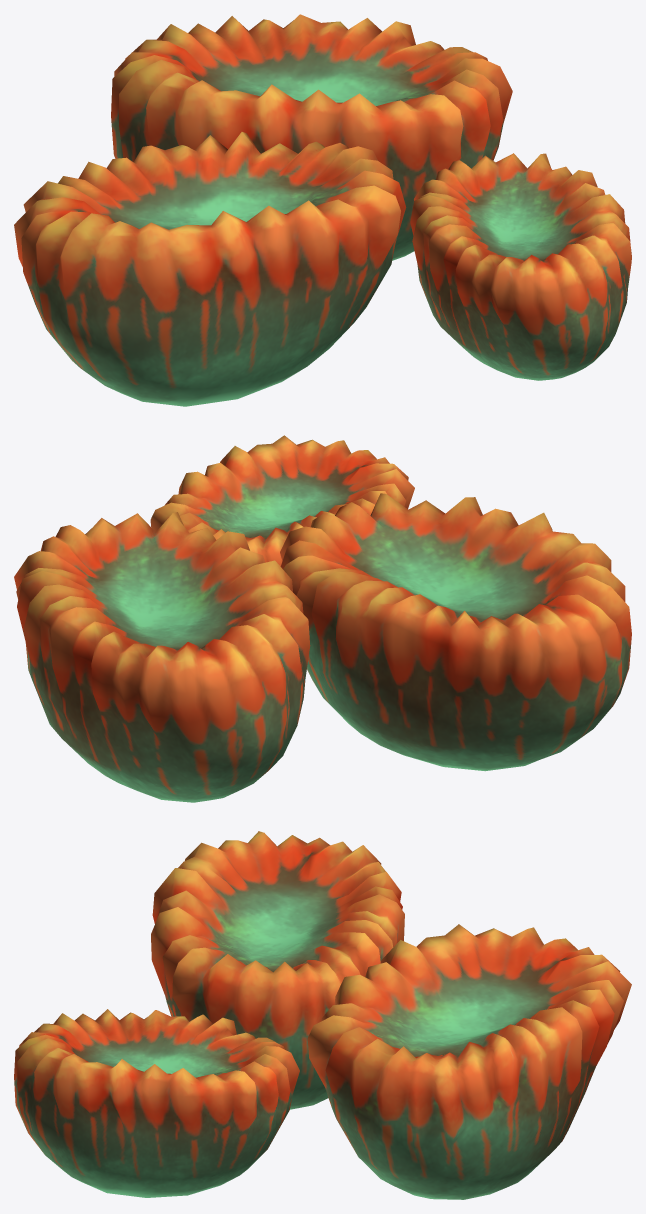
File: coral2.fbx
3 views of the same model, one above another, from view 1: azimuth 30°, elevation 25°; view 2: azimuth 150°, elevation 25°; view 3: azimuth 270°, elevation 25° (orthographic). The views are drawn at different scales.
Visible parts, largest first — view 1: coral13; view 2: coral13; view 3: coral13.
Boxes of the visible parts, bbox=[...] form: coral13: bbox=[14, 14, 631, 406]; coral13: bbox=[14, 435, 631, 802]; coral13: bbox=[14, 831, 631, 1199].
Bounding box in the file's own units: 3.63 × 1.44 × 3.86.
Materials: 1 (1 with a texture image).
